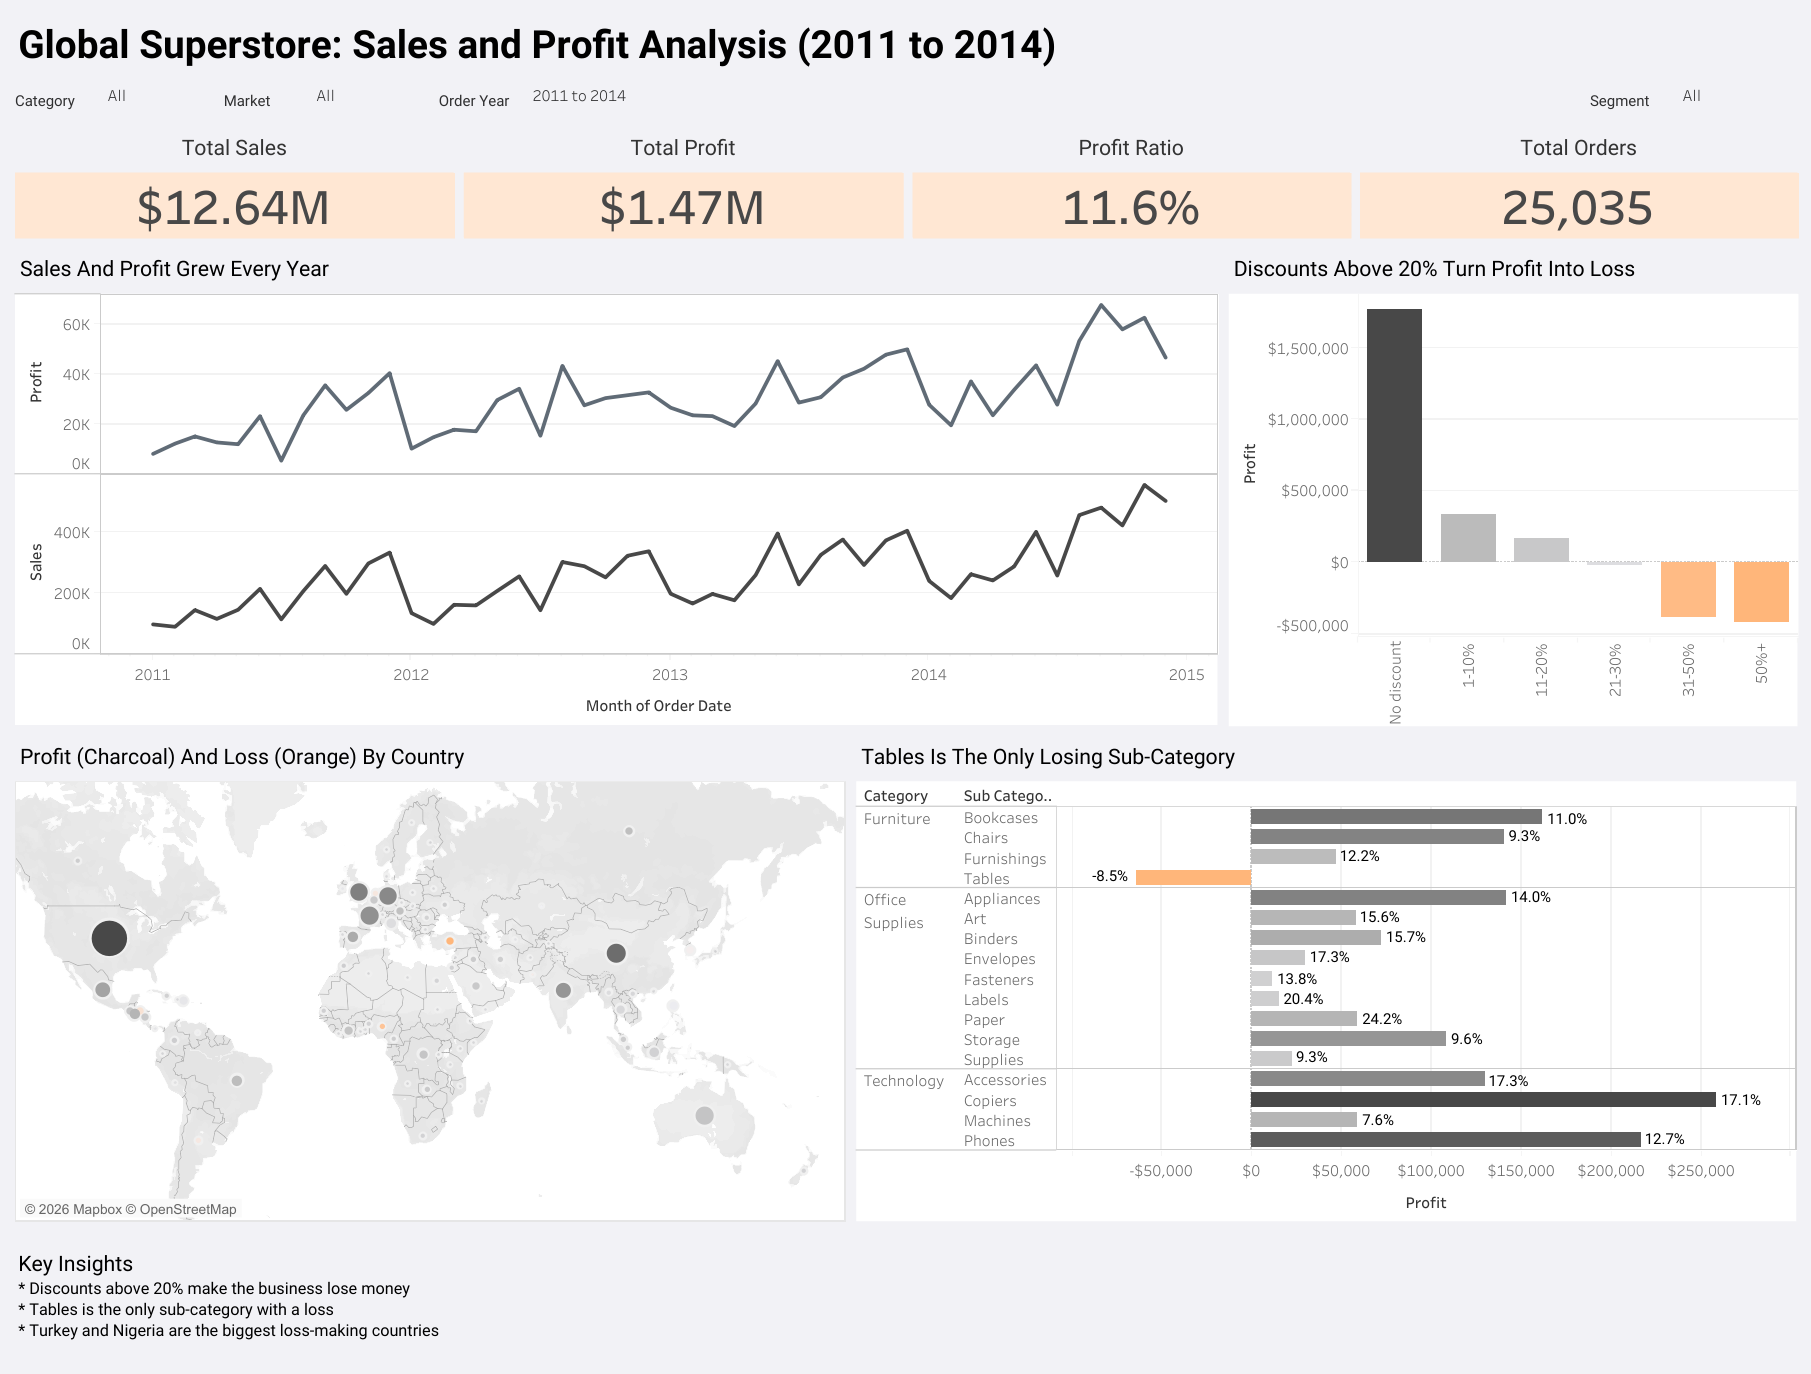

What the dashboard file says about the page in this screenshot:
{"tool":"tableau","page":{"name":"Overview","canvas":[1450,1100],"ordinal":1},"visuals":[{"type":"title","box":[8,8,1434,55]},{"type":"filter","title":"Category","param":"[federated.02n3qql18poff212zbrag11mg8hr].[none:category:nk]","box":[8,63,167,35]},{"type":"filter","title":"Category","param":"[federated.02n3qql18poff212zbrag11mg8hr].[none:market:nk]","box":[175,63,172,35]},{"type":"filter","title":"Category","param":"[federated.02n3qql18poff212zbrag11mg8hr].[none:order_year:qk]","box":[347,63,921,35]},{"type":"filter","title":"Category","param":"[federated.02n3qql18poff212zbrag11mg8hr].[none:segment:nk]","box":[1268,63,174,35]},{"type":"worksheet","title":"KPI Sales","mark":"Automatic","box":[8,98,359,97]},{"type":"worksheet","title":"KPI Profit","mark":"Automatic","box":[367,98,359,97]},{"type":"worksheet","title":"KPI Margin","mark":"Automatic","box":[726,98,358,97]},{"type":"worksheet","title":"KPI Orders","mark":"Automatic","box":[1084,98,358,97]},{"type":"worksheet","title":"Trend","mark":"Automatic","rows":["profit","sales"],"cols":["order_date"],"box":[8,195,952,389.7]},{"type":"worksheet","title":"Discount Band","mark":"Automatic","rows":["profit"],"cols":["discount_band"],"box":[960,195,482,389.7]},{"type":"worksheet","title":"Map","mark":"Automatic","box":[8,584.7,673,397.3]},{"type":"worksheet","title":"Category","mark":"Automatic","rows":["category","sub_category"],"cols":["profit"],"box":[681,584.7,761,397.3]},{"type":"text","box":[8,982,1434,110]}]}

Visuals, with their boxes in screenshot pixels (x1, y1, x2, y2), scaled from the page's 1450x1100 canvas onto the 1811x1374 screenshot:
title: bbox=[10, 10, 1801, 79]
"Category" filter: bbox=[10, 79, 219, 122]
"Category" filter: bbox=[219, 79, 433, 122]
"Category" filter: bbox=[433, 79, 1584, 122]
"Category" filter: bbox=[1584, 79, 1801, 122]
"KPI Sales" worksheet: bbox=[10, 122, 458, 244]
"KPI Profit" worksheet: bbox=[458, 122, 907, 244]
"KPI Margin" worksheet: bbox=[907, 122, 1354, 244]
"KPI Orders" worksheet: bbox=[1354, 122, 1801, 244]
"Trend" worksheet: bbox=[10, 244, 1199, 730]
"Discount Band" worksheet: bbox=[1199, 244, 1801, 730]
"Map" worksheet: bbox=[10, 730, 851, 1227]
"Category" worksheet: bbox=[851, 730, 1801, 1227]
text: bbox=[10, 1227, 1801, 1364]
